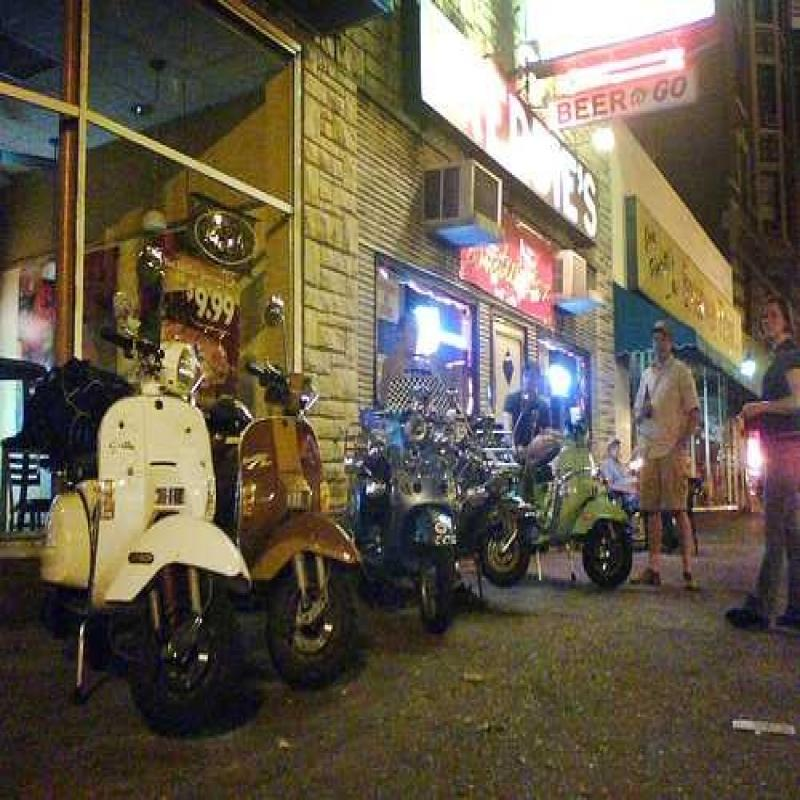bike: (49, 342, 251, 703), (211, 355, 376, 704), (488, 420, 662, 591), (368, 393, 483, 640)
